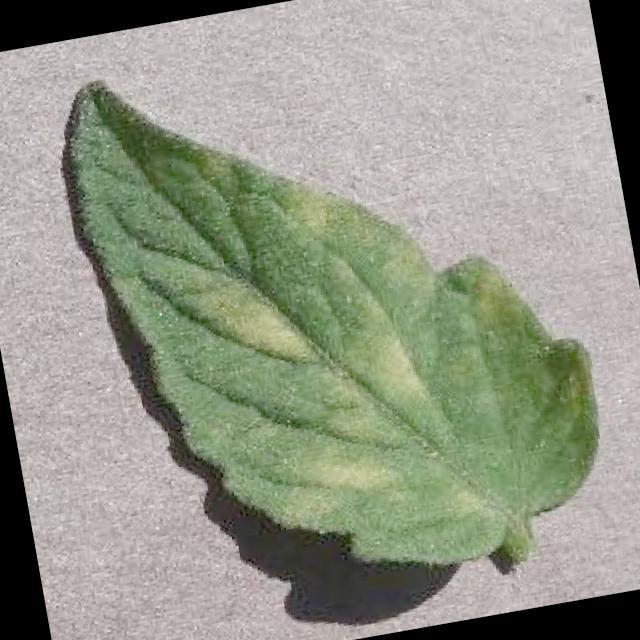Tomato mold leaf: (54, 4, 624, 621)
